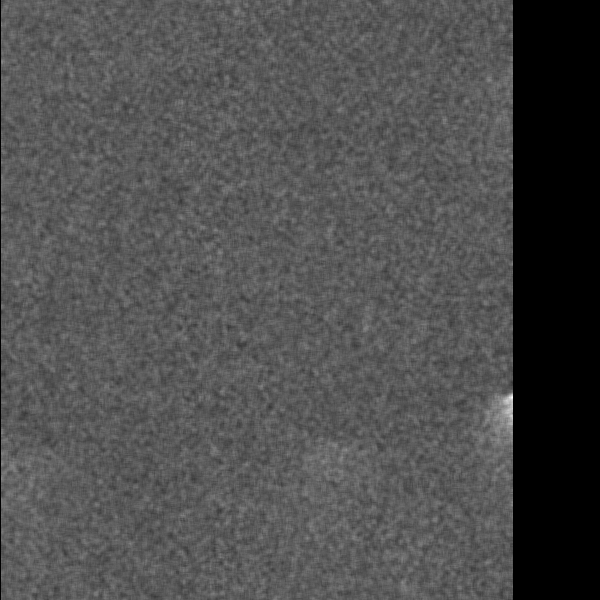spark: (271, 385, 297, 460), (17, 1, 65, 37), (351, 294, 373, 339), (288, 433, 305, 472)
